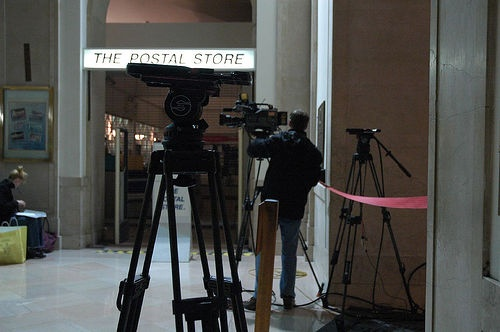head: (7, 163, 30, 190), (290, 110, 310, 131)
person: (246, 101, 321, 321), (0, 166, 28, 226)
